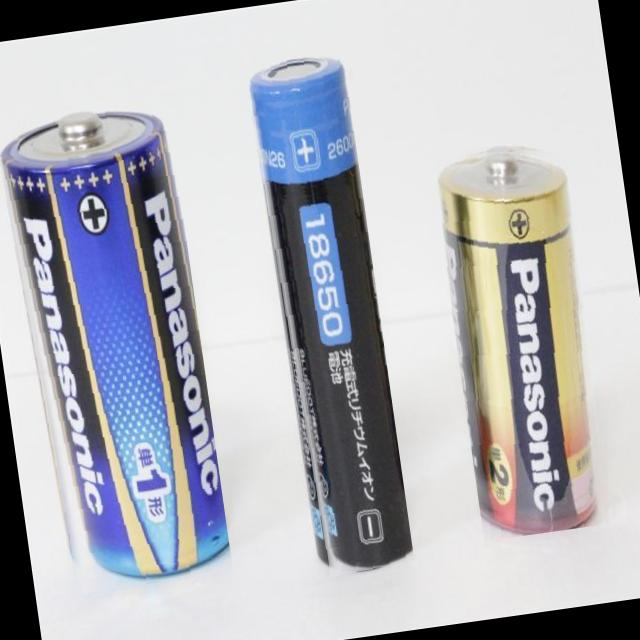Hazard: (0, 99, 233, 597), (244, 52, 415, 579), (430, 136, 618, 542)
